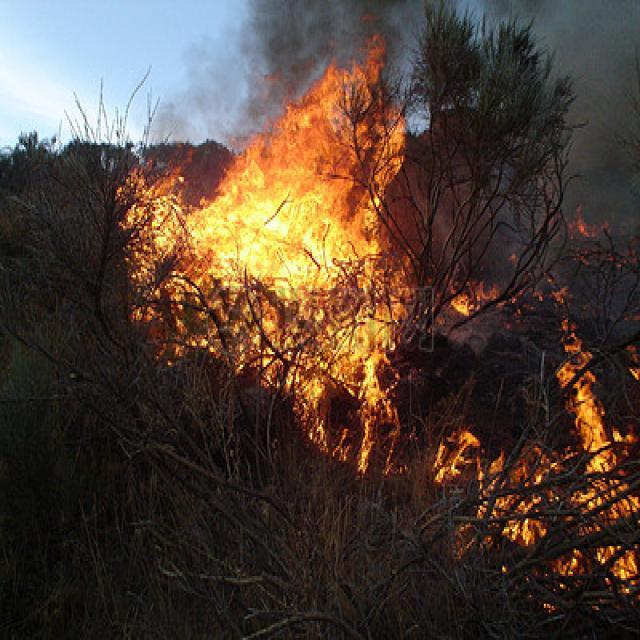Fire: (113, 31, 640, 595)
